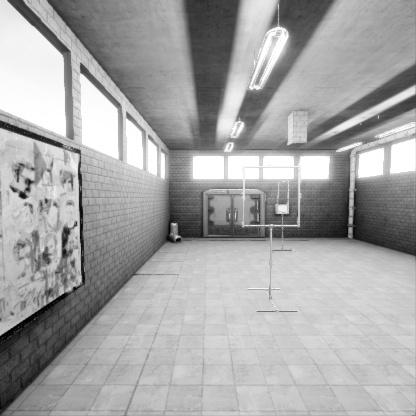gate: (243, 192, 303, 251), (277, 203, 289, 237)
